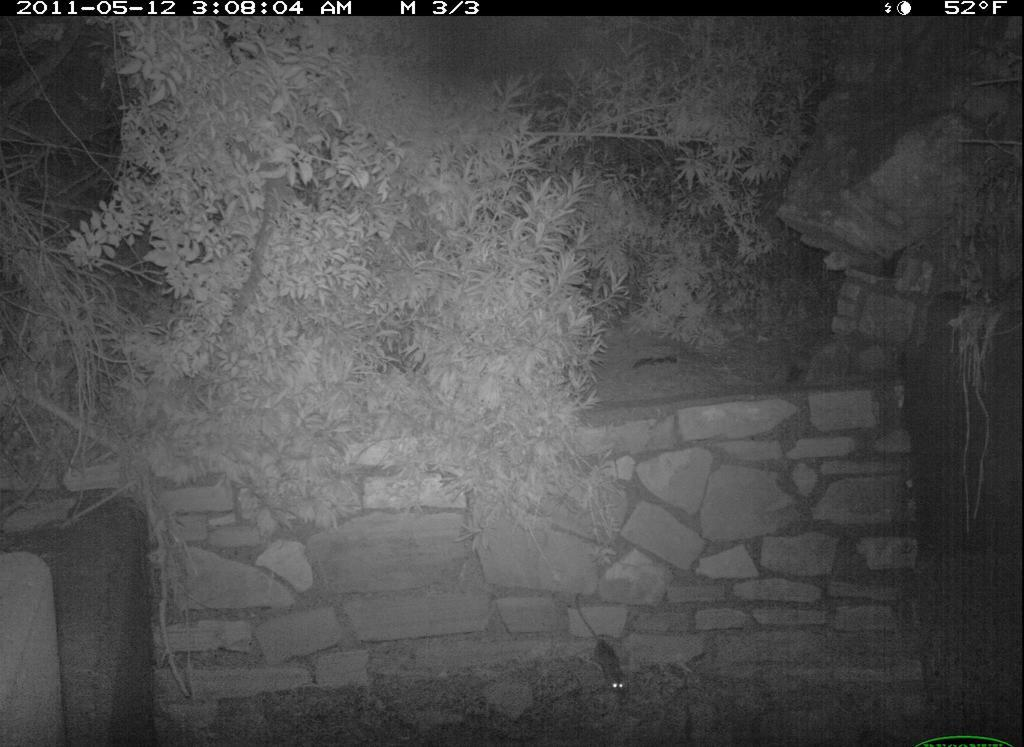rodent: (569, 583, 641, 709)
